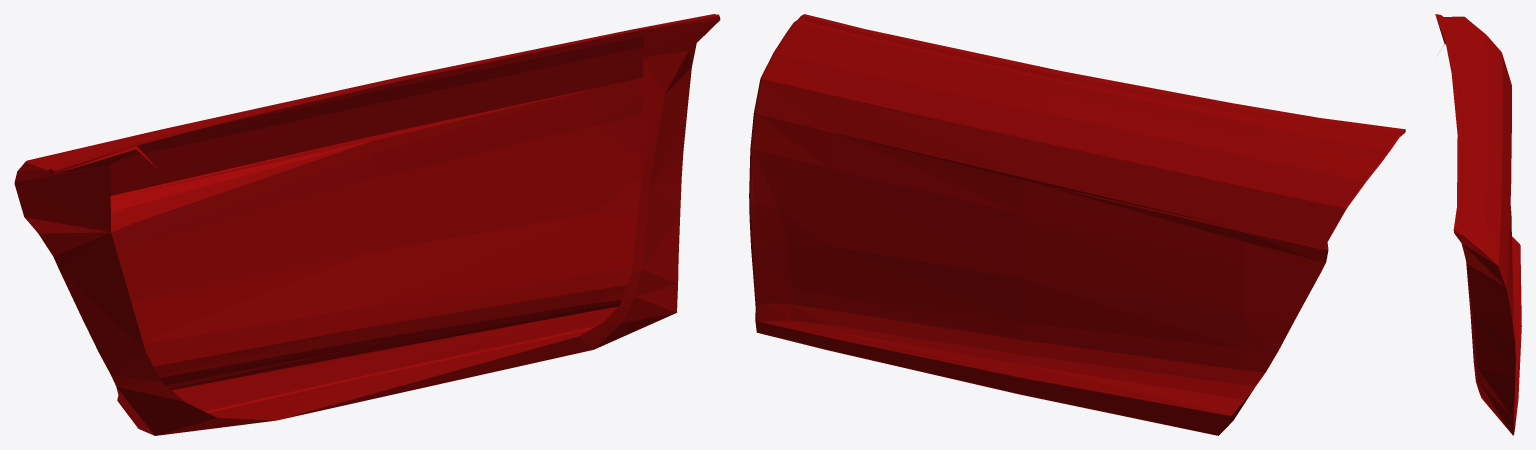
Rendered from door_left_.002.dae.
3 renders of one model, left to right at view 1: azimuth 30°, elevation 25°; view 2: azimuth 150°, elevation 25°; view 3: azimuth 270°, elevation 25°, orthographic. The views are drawn at different scales.
Visible parts, largest first — view 1: door_left_; view 2: door_left_; view 3: door_left_.
Boxes of the visible parts, bbox=[...] form: door_left_: bbox=[14, 14, 720, 435]; door_left_: bbox=[749, 14, 1405, 435]; door_left_: bbox=[1435, 14, 1521, 435].
Size of the model in its own units: 157 by 27.83 by 76.12.
